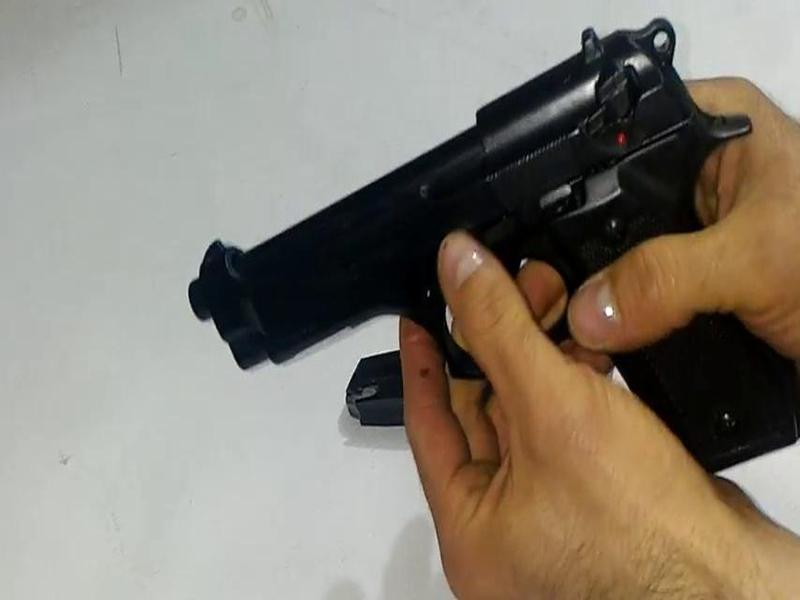Pistola: (179, 15, 791, 475)
